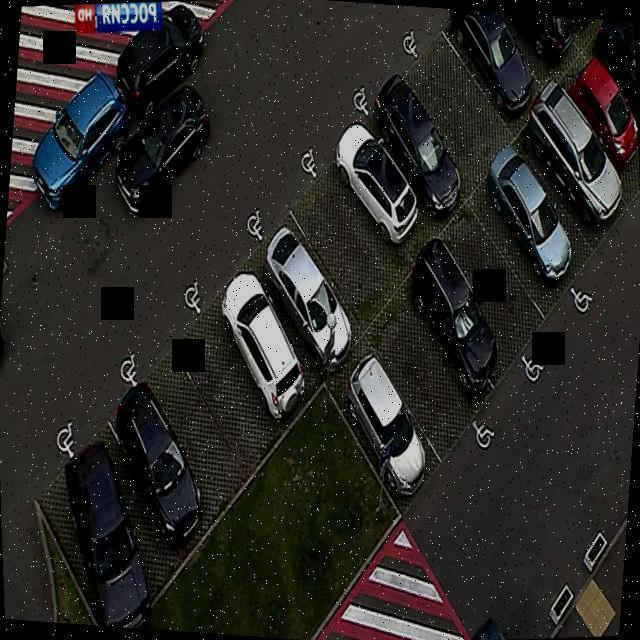space-empty: (394, 18, 507, 190)
space-occupied: (17, 411, 187, 630), (82, 349, 246, 536), (213, 200, 363, 375), (165, 271, 310, 449), (366, 272, 499, 466), (333, 75, 462, 259), (430, 206, 553, 387), (477, 151, 604, 324), (326, 347, 442, 518), (288, 138, 410, 298), (524, 102, 634, 243), (433, 8, 547, 121), (567, 63, 640, 205), (597, 19, 640, 132), (491, 12, 585, 63)
